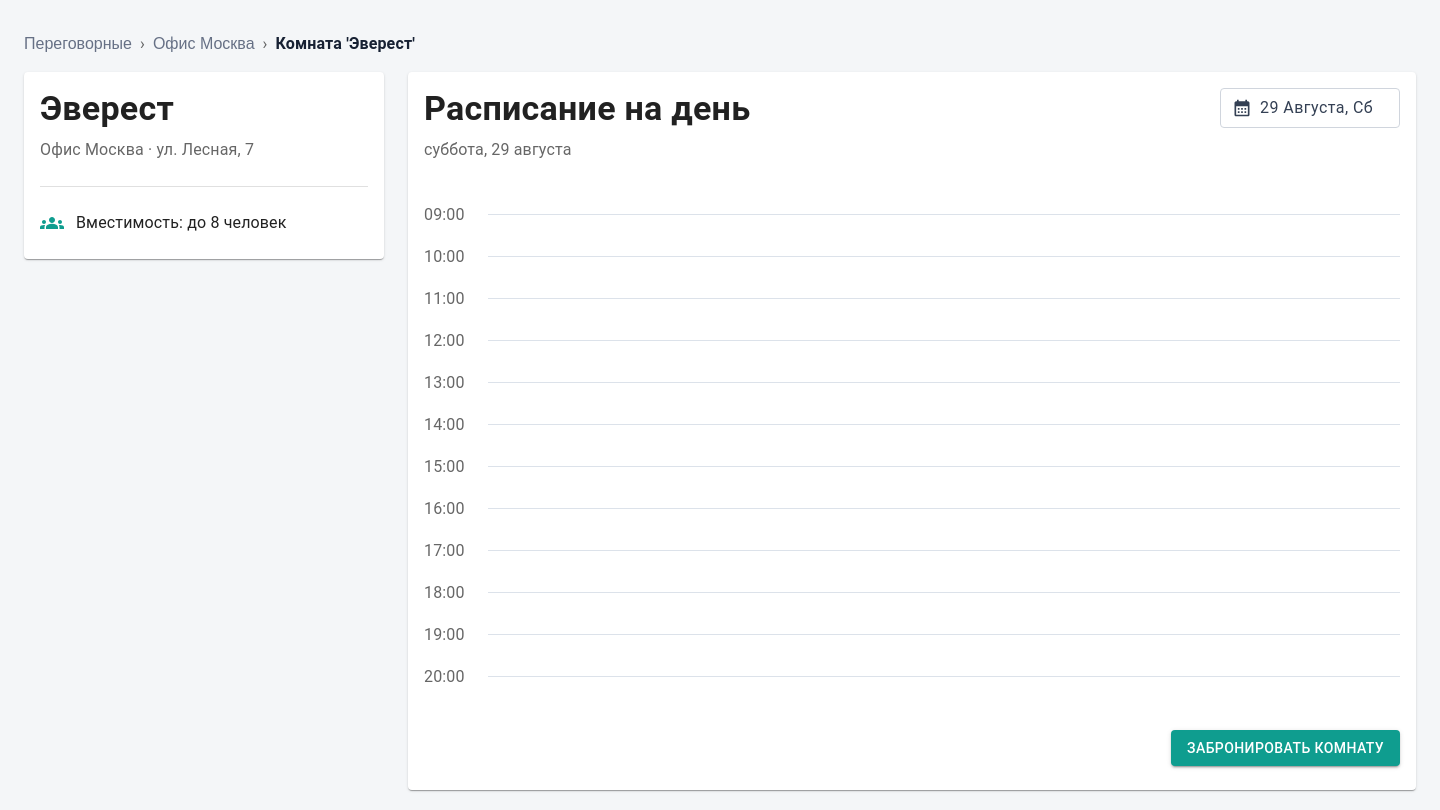
Scenario: Room booking form › opens booking form from room page
Check: the heading "Эверест" is shown, box [40,88,174,128]
What coordinates should you click on to do the following:
click the button "Забронировать комнату"
I would click on:
 (1286, 748)
Its box is [1171,730,1400,766].
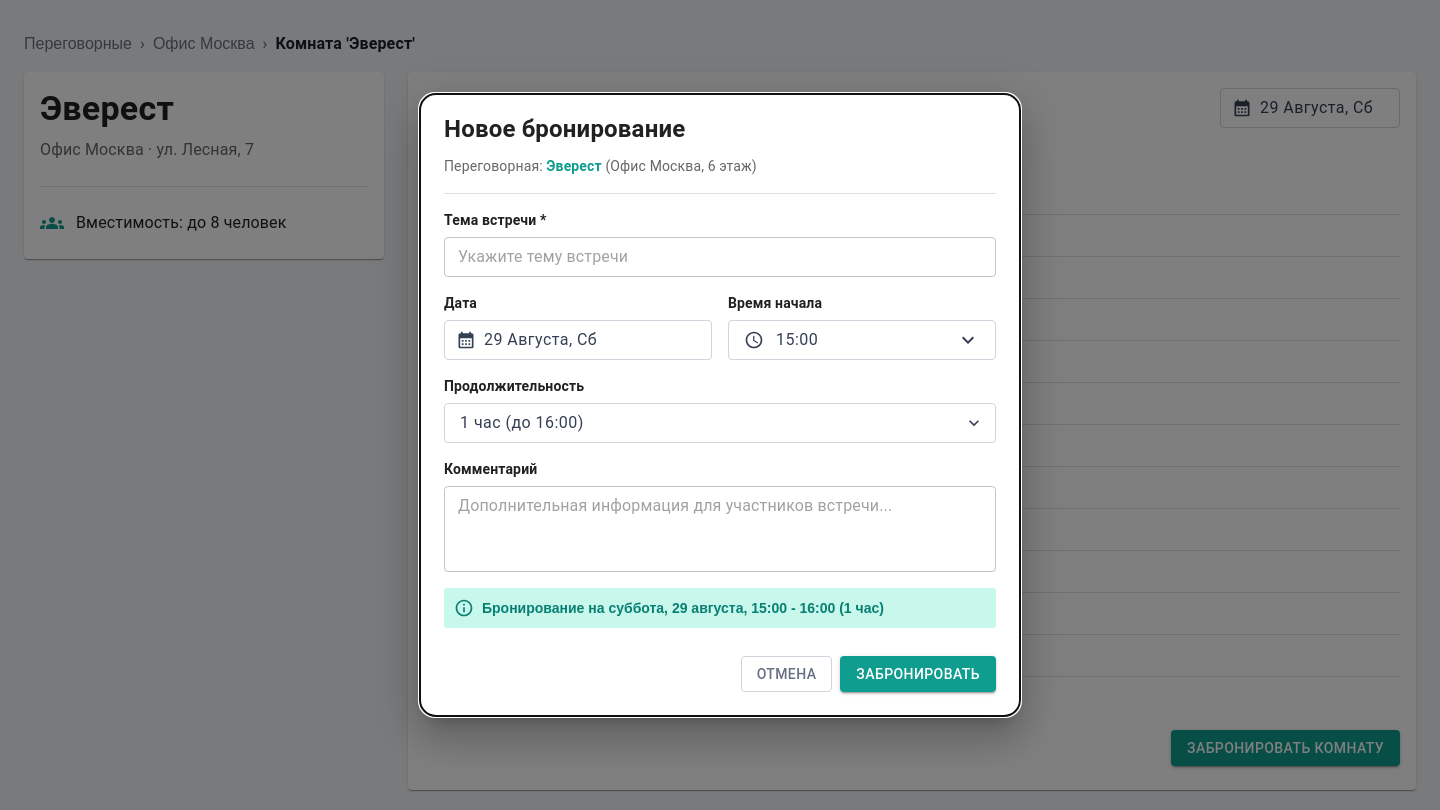
Check: the heading "Новое бронирование" is shown, box [444,114,685,142]
Check: the text "Переговорная: Эверест (Офис Москва, 6 этаж)" is shown, box [444,158,757,174]
Check: the field with placeholder "Укажите тему встречи" is shown, box [444,237,996,277]
